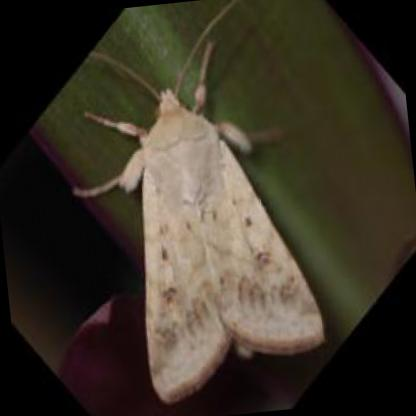helicoverpa: (72, 45, 324, 405)
